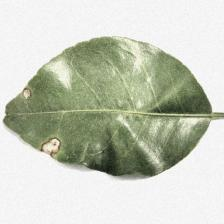canker: (18, 80, 66, 159)
